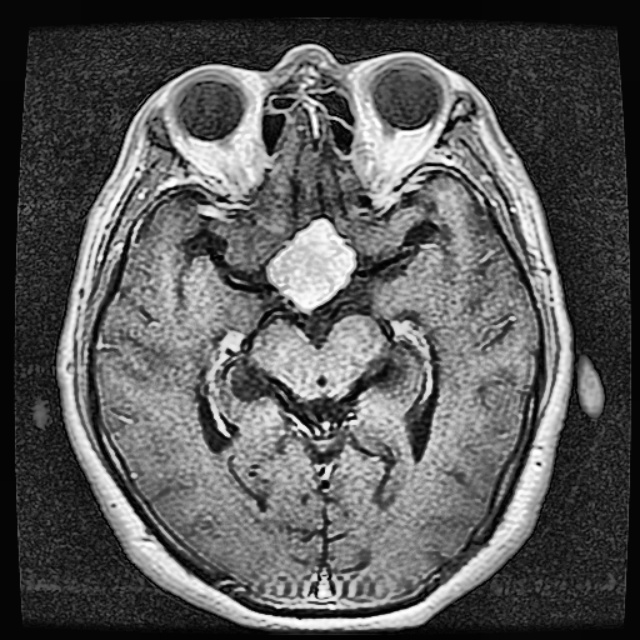Glioma: (267, 217, 355, 309)
